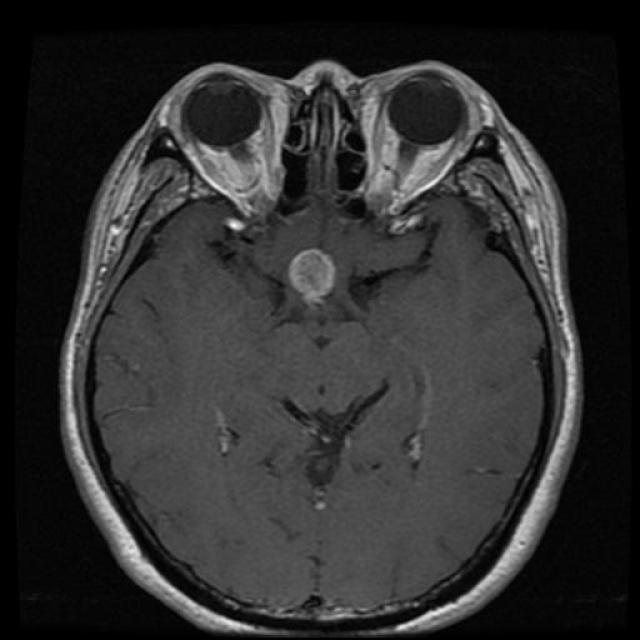Brain-Tumor: (279, 241, 354, 312)
eye: (152, 49, 302, 233), (349, 62, 491, 236)
